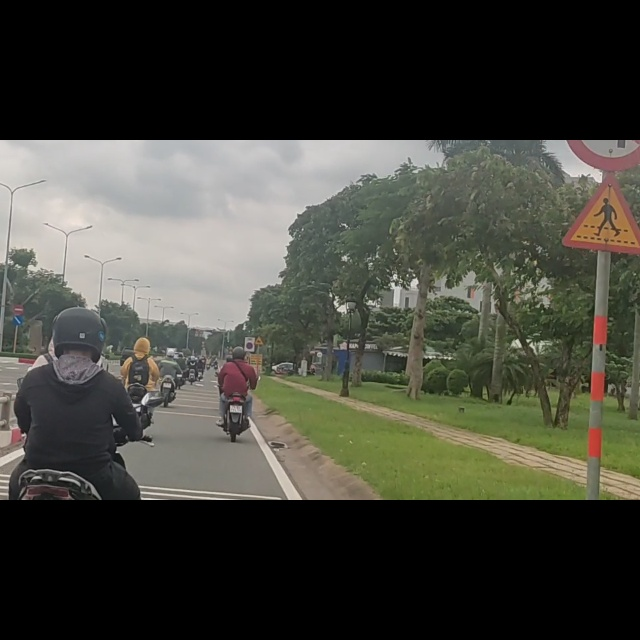bien_hieu_lenh: (563, 58, 639, 200), (14, 292, 24, 309), (13, 312, 23, 329), (246, 359, 253, 371)
